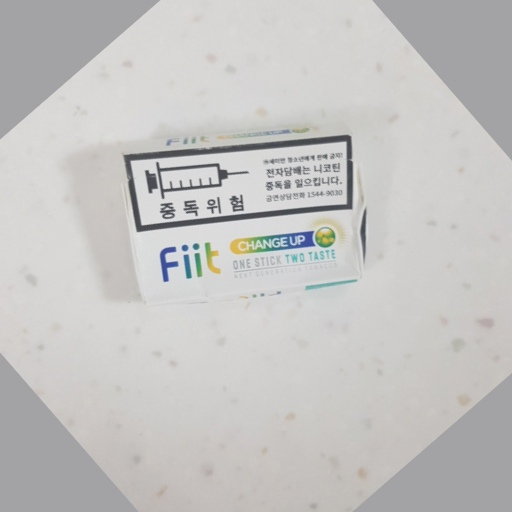Paper_0: (114, 118, 375, 319)
